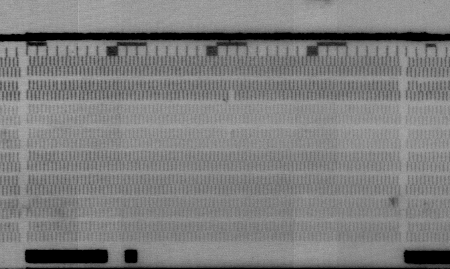Broken hole: (226, 88, 238, 101)
Oblique printing: (415, 81, 428, 95)
